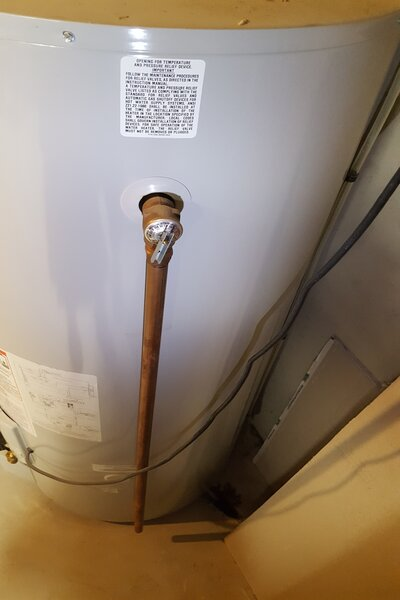valve: (138, 193, 183, 275)
